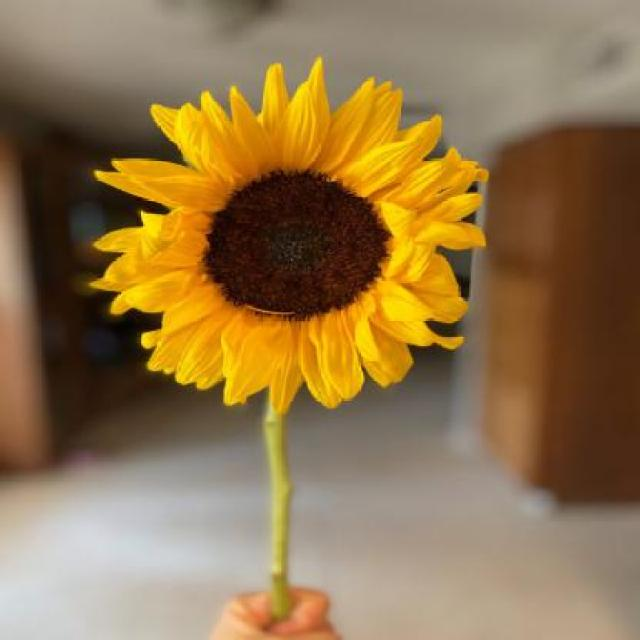sunflower: (83, 51, 494, 424)
